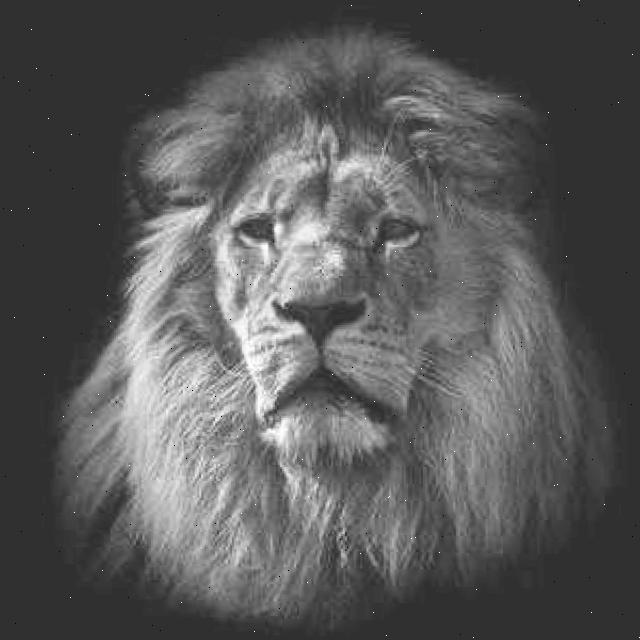Lion: (127, 25, 551, 552)
